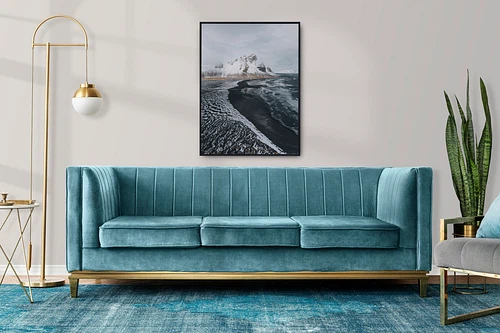chair: (433, 192, 500, 326)
floor lamp: (26, 12, 102, 289)
large plant: (439, 68, 494, 234)
side table: (0, 201, 39, 307)
sofa: (63, 163, 434, 299)
wall art: (197, 19, 302, 158)
